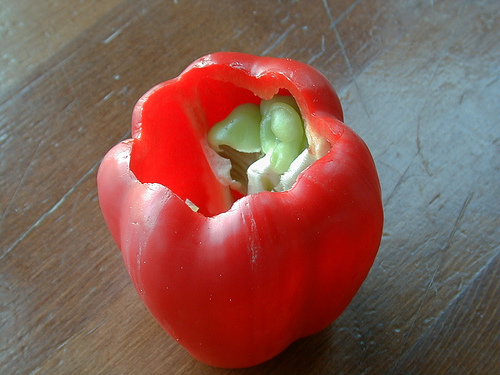capsicum: (97, 50, 378, 363)
